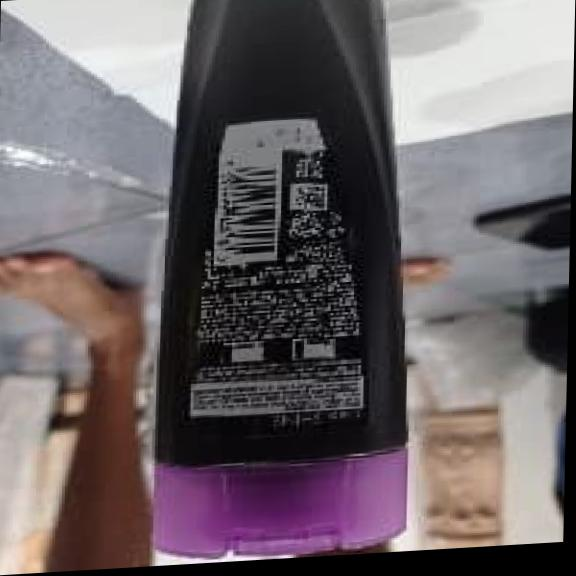Plastik: (144, 0, 421, 553)
